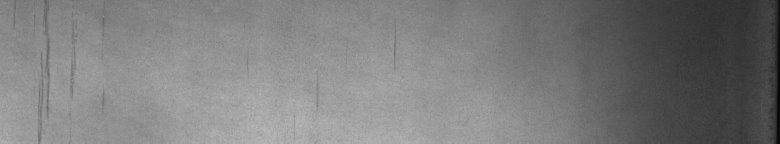ka: (14, 4, 76, 136)
